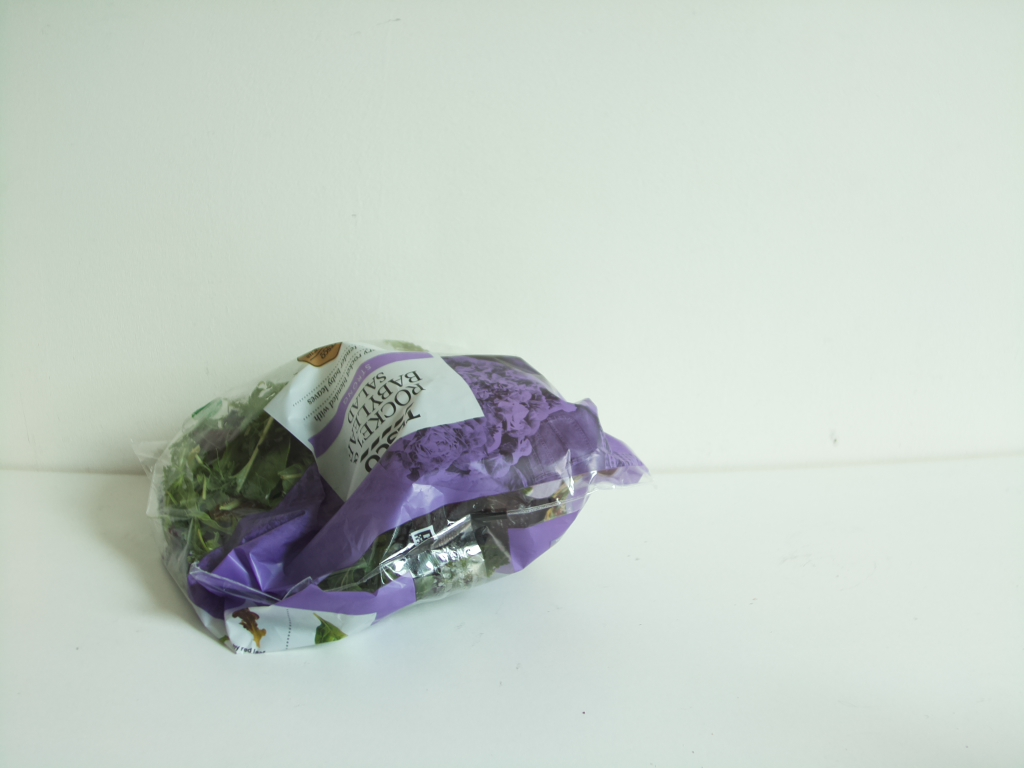salad: (147, 333, 642, 659)
